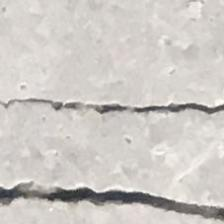Crack: (0, 90, 224, 224)
